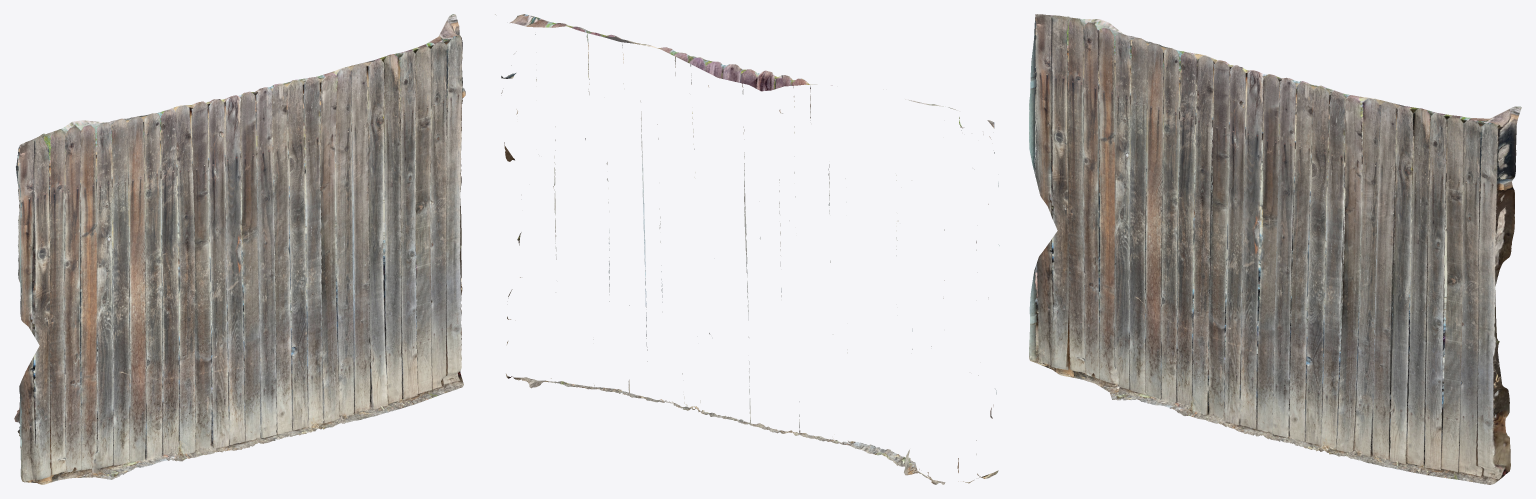
The model's file is meh_wood_fence.glb.
3 views of the same model, side by side, from view 1: azimuth 30°, elevation 25°; view 2: azimuth 150°, elevation 25°; view 3: azimuth 330°, elevation 25° (orthographic). The views are drawn at different scales.
Parts seen in each view (by area): view 1: Object_4; view 2: Object_4; view 3: Object_4.
Boxes of the visible parts, x1,y1,x2,y2 form: Object_4: (14,14,465,484); Object_4: (495,14,999,484); Object_4: (1029,14,1521,484).
Bounding box in the file's own units: 2.7 × 2.02 × 0.2896.
Materials: 1 (1 with a texture image).
